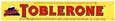grozi_68: (0, 0, 114, 20)
